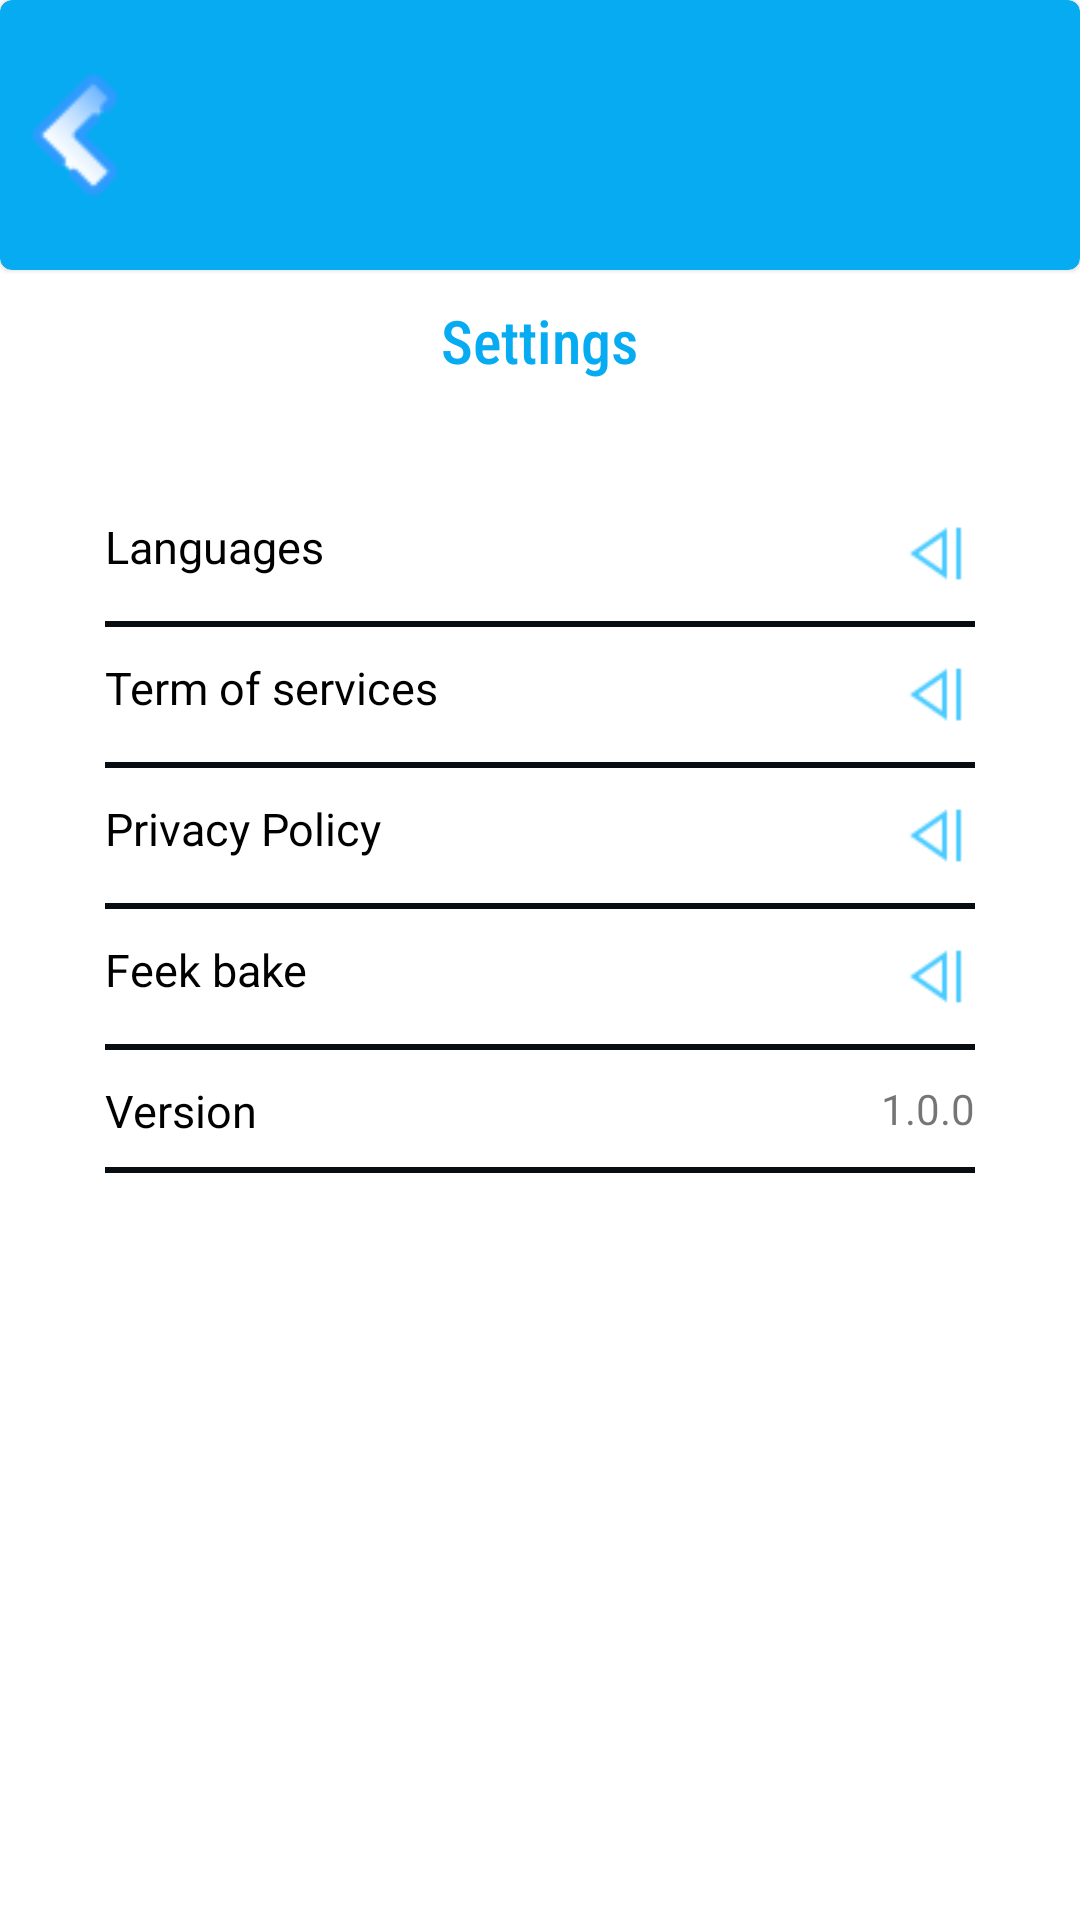

Icons on this 1080*1920 Android screen, each with its box as bbox=[x1, y1, x2, y2]:
back: bbox=[34, 76, 116, 194]
